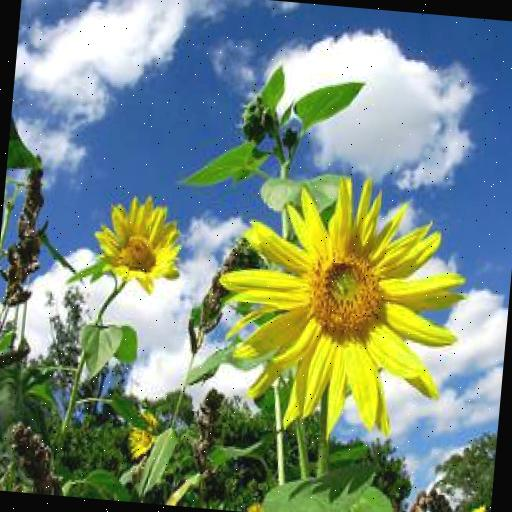sunflower: (210, 174, 465, 436), (90, 195, 185, 292)
